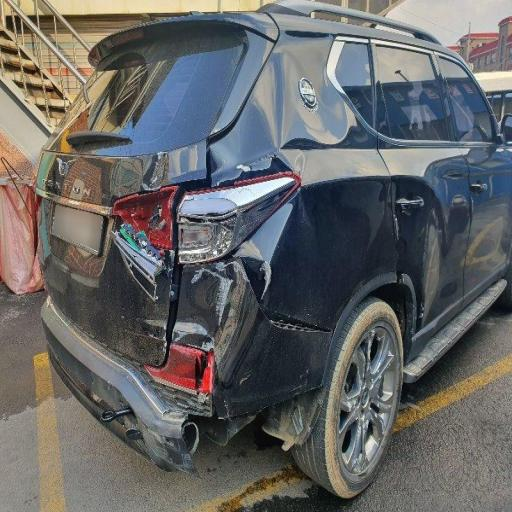broken: (118, 146, 323, 478)
